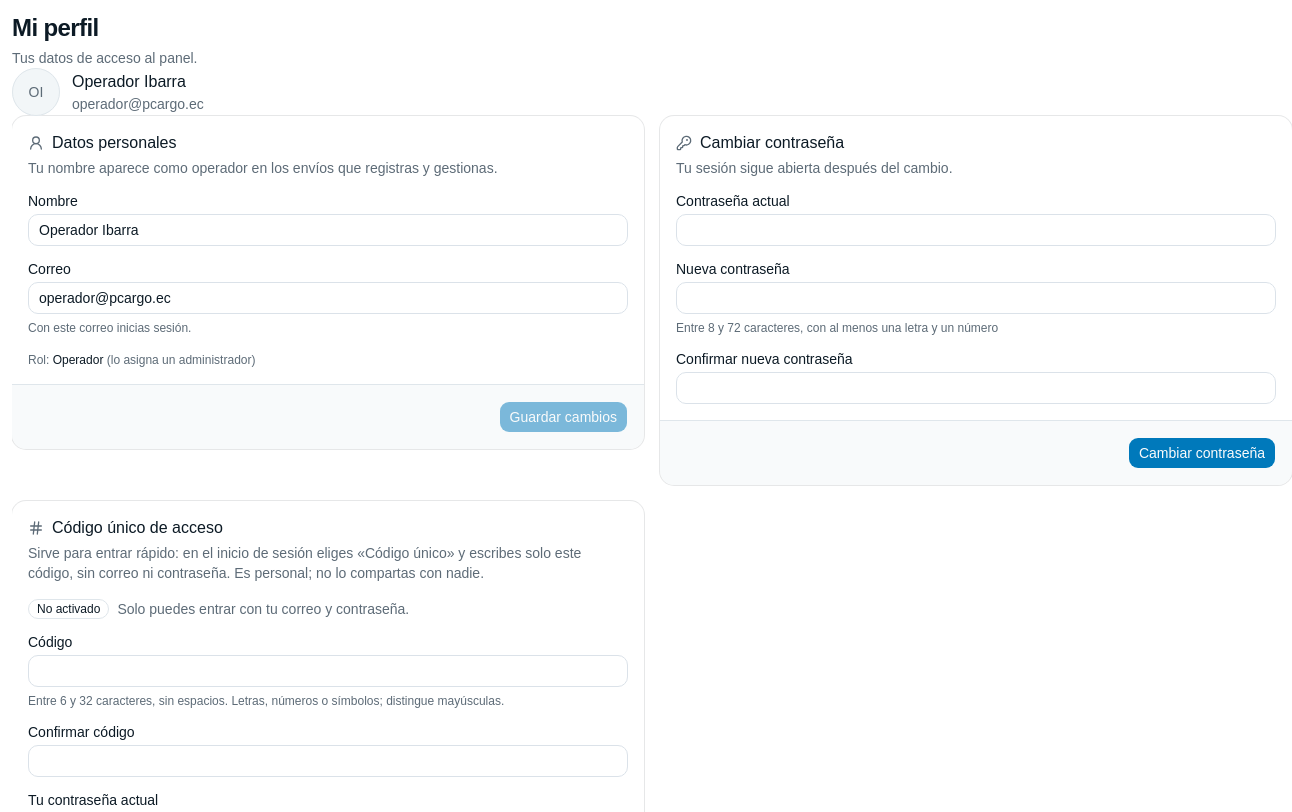
Test: PerfilPage — datos personales › guarda solo lo que cambió y reemplaza token y usuario de la sesión
Expected: the heading "Mi perfil" is shown, top-left (12, 14), bottom-right (99, 41)
Expected: the button "Guardar cambios" is disabled, top-left (499, 401), bottom-right (628, 433)
Replace the text in the field labelled "Nombre" with "Ana Operadora". click: (328, 230)
box: top-left (28, 214), bottom-right (628, 246)
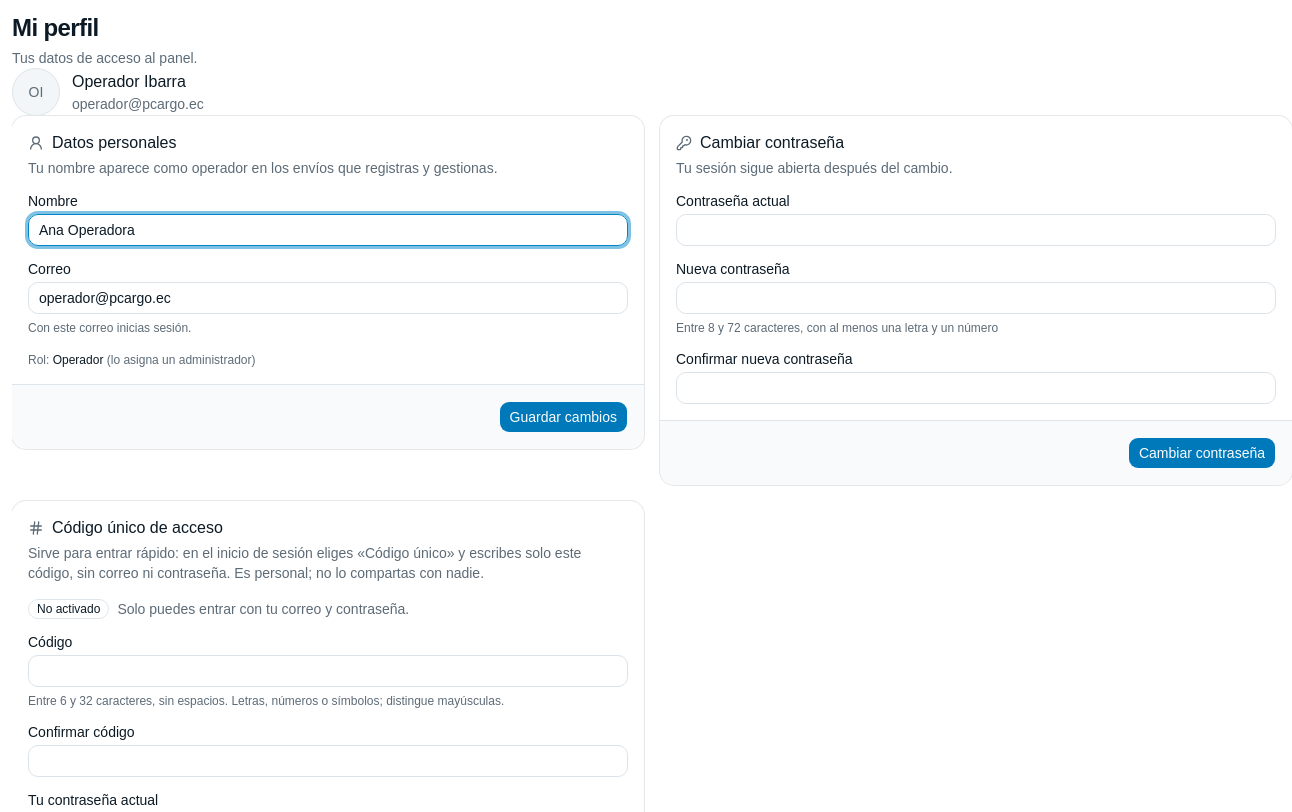
Click the button "Guardar cambios". click: (563, 417)
box: top-left (499, 401), bottom-right (628, 433)
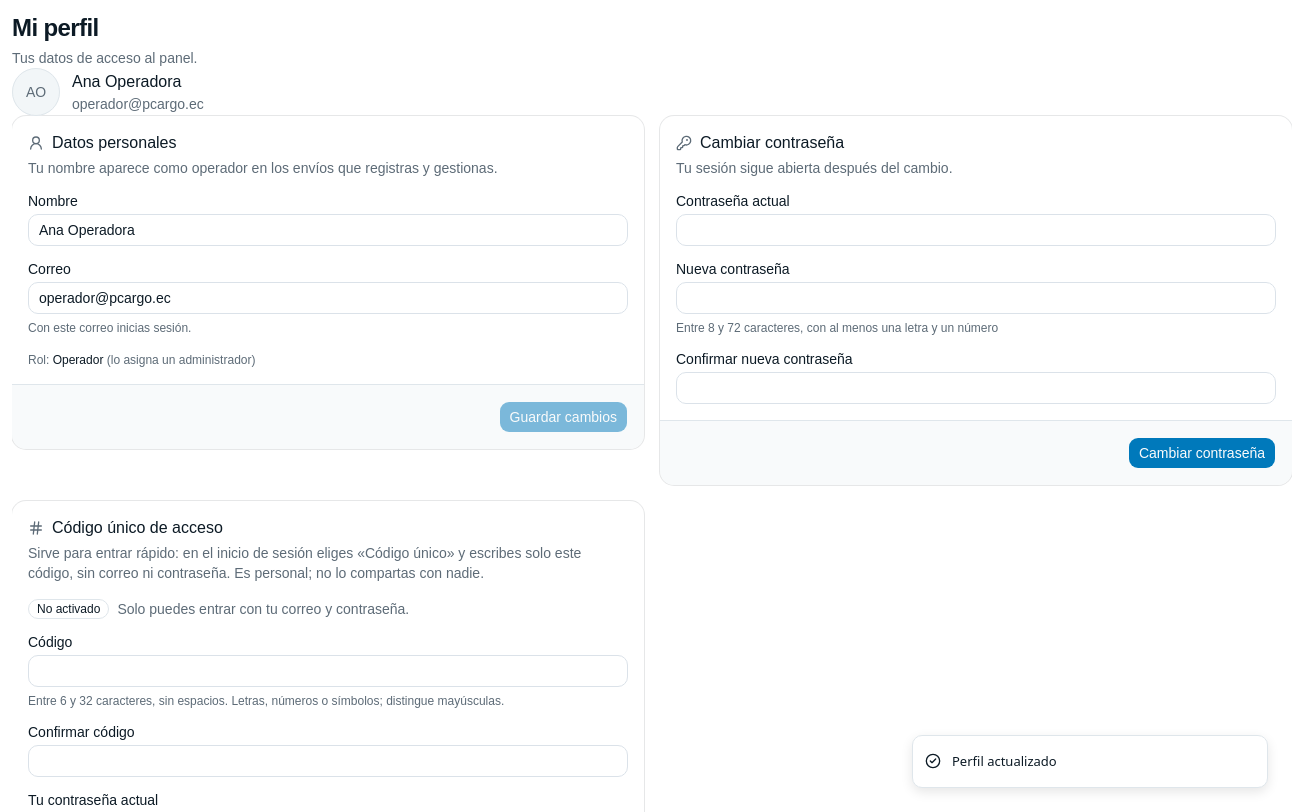
Now the text "Perfil actualizado" is shown, box top-left (952, 752), bottom-right (1057, 771)
Now the text "Ana Operadora" is shown, box top-left (72, 73), bottom-right (181, 90)
